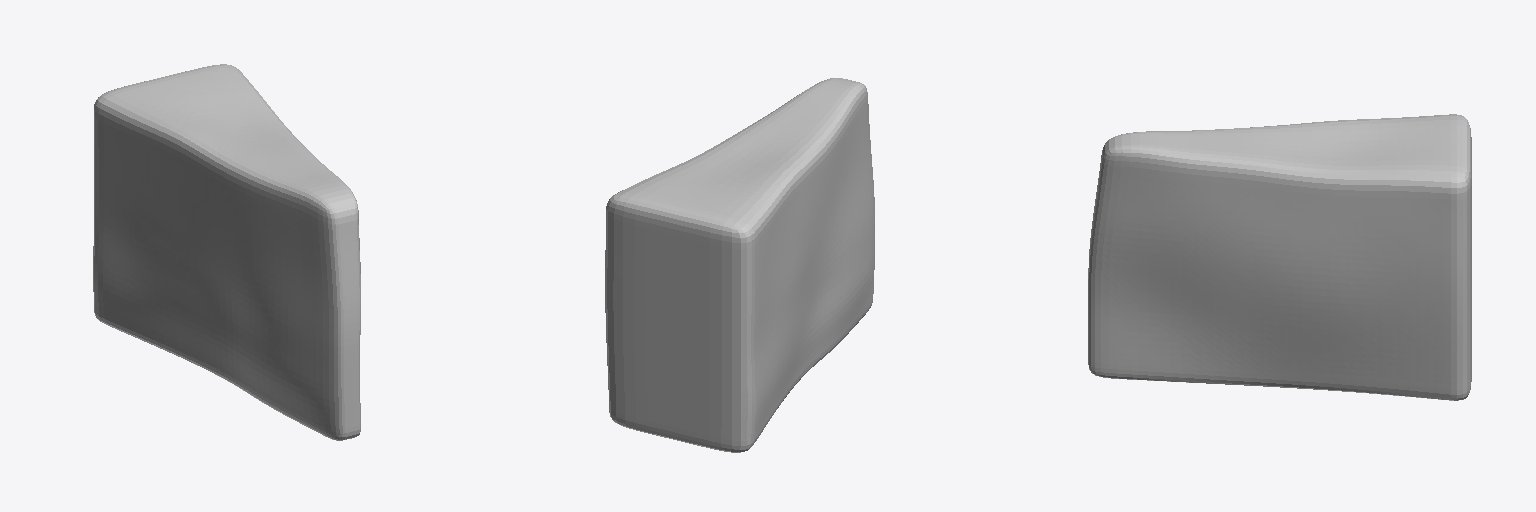
Rendered from cheese.obj.
3 renders of one model, left to right at view 1: azimuth 30°, elevation 25°; view 2: azimuth 150°, elevation 25°; view 3: azimuth 270°, elevation 25°, orthographic.
Parts seen in each view (by area): view 1: Cube; view 2: Cube; view 3: Cube.
Part boxes in pixels (bbox=[...]): Cube: bbox=[93, 64, 360, 440]; Cube: bbox=[605, 78, 874, 452]; Cube: bbox=[1088, 114, 1471, 400].
Bounding box in the file's own units: 4.58 × 7.06 × 10.42.